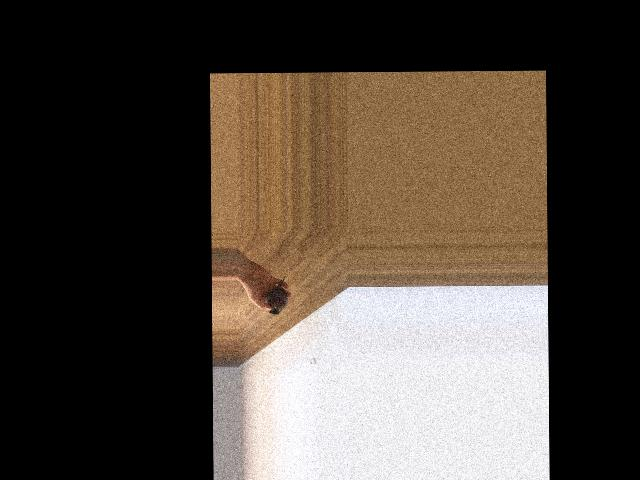beet: (265, 276, 288, 314)
